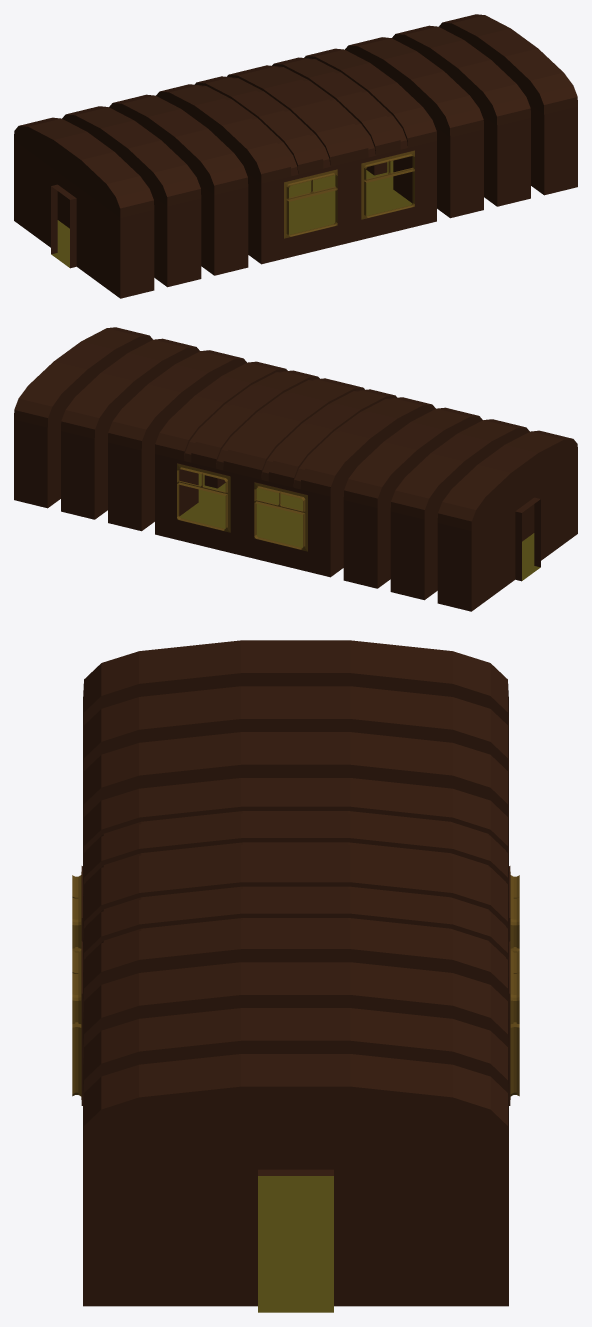
File: ReverseAccordian.fbx
3 renders of one model, top to bottom at view 1: azimuth 30°, elevation 25°; view 2: azimuth 150°, elevation 25°; view 3: azimuth 270°, elevation 25°, orthographic. The views are drawn at different scales.
Visible parts, largest first — view 1: ReverseAccordion; view 2: ReverseAccordion; view 3: ReverseAccordion.
Part boxes in pixels (bbox=[...]): ReverseAccordion: bbox=[14, 14, 577, 298]; ReverseAccordion: bbox=[14, 327, 577, 611]; ReverseAccordion: bbox=[72, 640, 519, 1312].
Size of what is drawn, in the model's own units: 6749 by 1503 by 2779.
